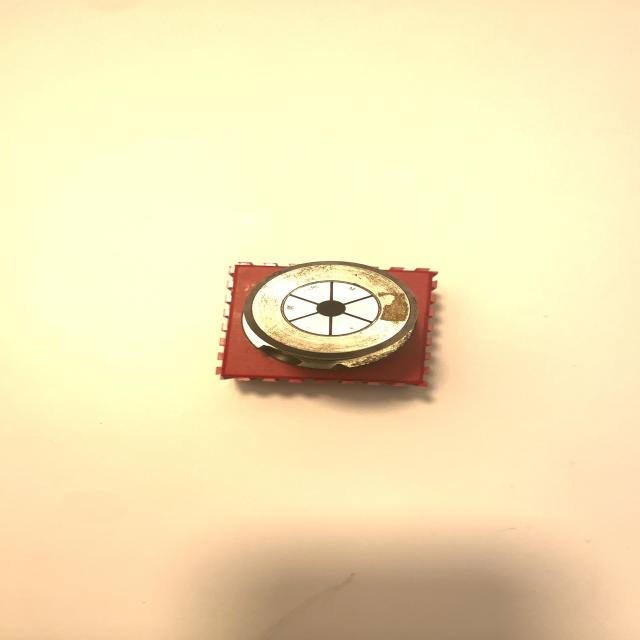Filled_Slot: (241, 262, 417, 369)
